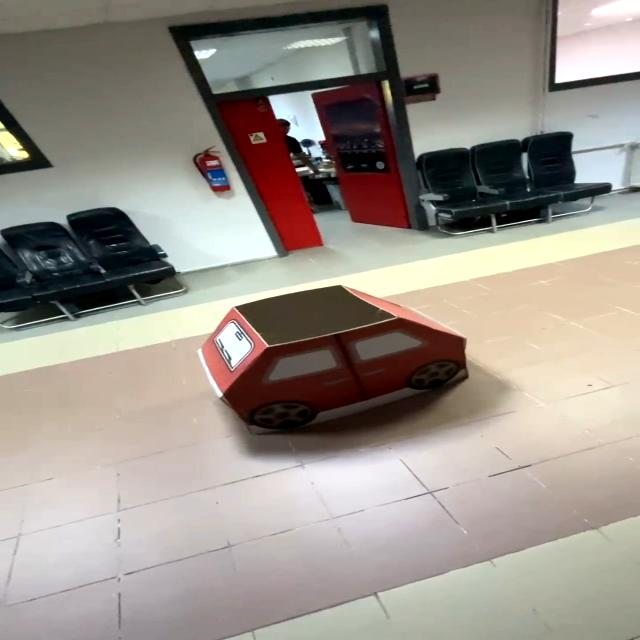red_car: (173, 269, 513, 451)
